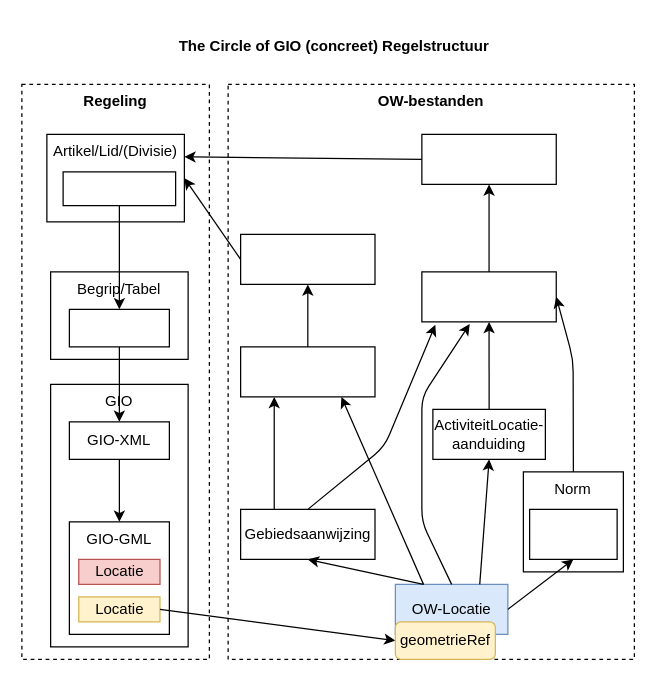
Some shapes in this 656 by 681 pixel diagram are drawn without their labels. The centre of each missing label's shape, as x and y in pixels:
"Divisie" goes at (x=307, y=258).
"ExtIoRef" goes at (x=118, y=327).
"IntIoRef" goes at (x=119, y=188).
"Juridische regel" goes at (x=488, y=296).
"Normwaarde" goes at (x=572, y=533).
"Regeltekst" goes at (x=488, y=158).
"Tekstdeel" goes at (x=307, y=371).
